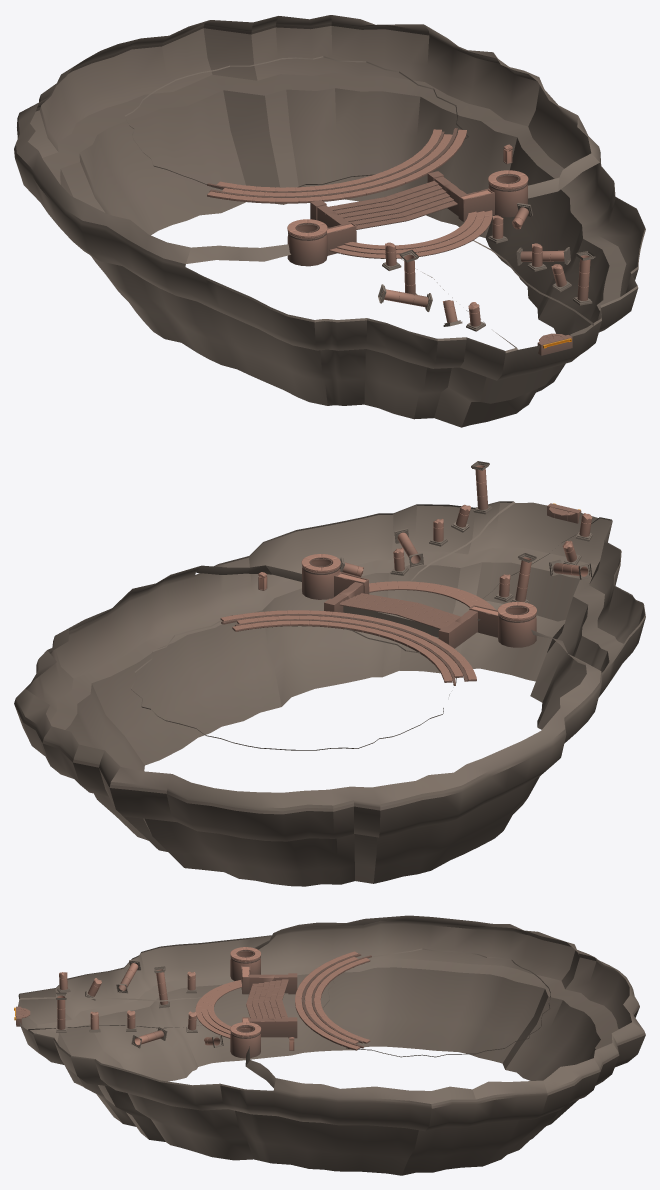
File: islandD.001.fbx
3 views of the same model, one above another, from view 1: azimuth 30°, elevation 25°; view 2: azimuth 150°, elevation 25°; view 3: azimuth 270°, elevation 25° (orthographic). The views are drawn at different scales.
Visible parts, largest first — view 1: Circle.007, Cube.009, Circle.005, escaleras editable.002, escaleras semicircular.002, Cube.008, Cube.072, Conector puente.005; view 2: Circle.007, Cube.009, Circle.005, escaleras editable.002, escaleras semicircular.002, Cube.008; view 3: Circle.007, Cube.009, Circle.005, escaleras editable.002, escaleras semicircular.002, Cube.008, Cube.077.
Boxes of the visible parts, left/top/right/bottom form: Circle.007: left=14, top=15, right=645, bottom=427; Cube.009: left=287, top=170, right=528, bottom=266; Circle.005: left=207, top=128, right=466, bottom=203; escaleras editable.002: left=328, top=181, right=457, bottom=229; escaleras semicircular.002: left=329, top=210, right=492, bottom=258; Cube.008: left=573, top=251, right=595, bottom=305; Cube.072: left=378, top=284, right=432, bottom=311; Conector puente.005: left=537, top=333, right=572, bottom=355; Circle.007: left=14, top=501, right=645, bottom=886; Cube.009: left=301, top=554, right=536, bottom=648; Circle.005: left=220, top=610, right=476, bottom=685; escaleras editable.002: left=339, top=593, right=460, bottom=629; escaleras semicircular.002: left=369, top=581, right=495, bottom=609; Cube.008: left=471, top=461, right=492, bottom=514; Circle.007: left=18, top=915, right=645, bottom=1175; Cube.009: left=230, top=947, right=297, bottom=1058; Circle.005: left=295, top=951, right=371, bottom=1050; escaleras editable.002: left=246, top=979, right=288, bottom=1018; escaleras semicircular.002: left=195, top=980, right=241, bottom=1038; Cube.008: left=56, top=992, right=66, bottom=1032; Cube.077: left=154, top=966, right=169, bottom=1008.
Size of the model in its own units: 3531 by 1226 by 5096.
